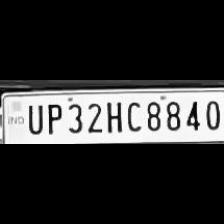0: (202, 96, 222, 130)
2: (84, 99, 103, 134)
3: (64, 99, 82, 134)
4: (182, 96, 200, 132)
8: (143, 96, 161, 132), (163, 98, 181, 132)
C: (123, 97, 141, 132)
H: (104, 97, 122, 132)
P: (43, 100, 62, 136)
U: (23, 101, 43, 135)
